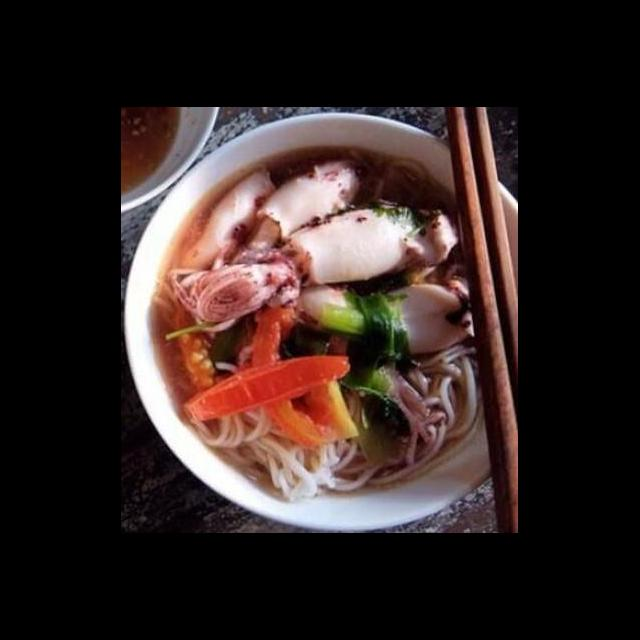bun: (190, 402, 387, 506)
muc: (167, 201, 466, 335), (208, 156, 370, 276), (282, 270, 478, 358), (173, 162, 284, 277), (352, 357, 460, 469)
